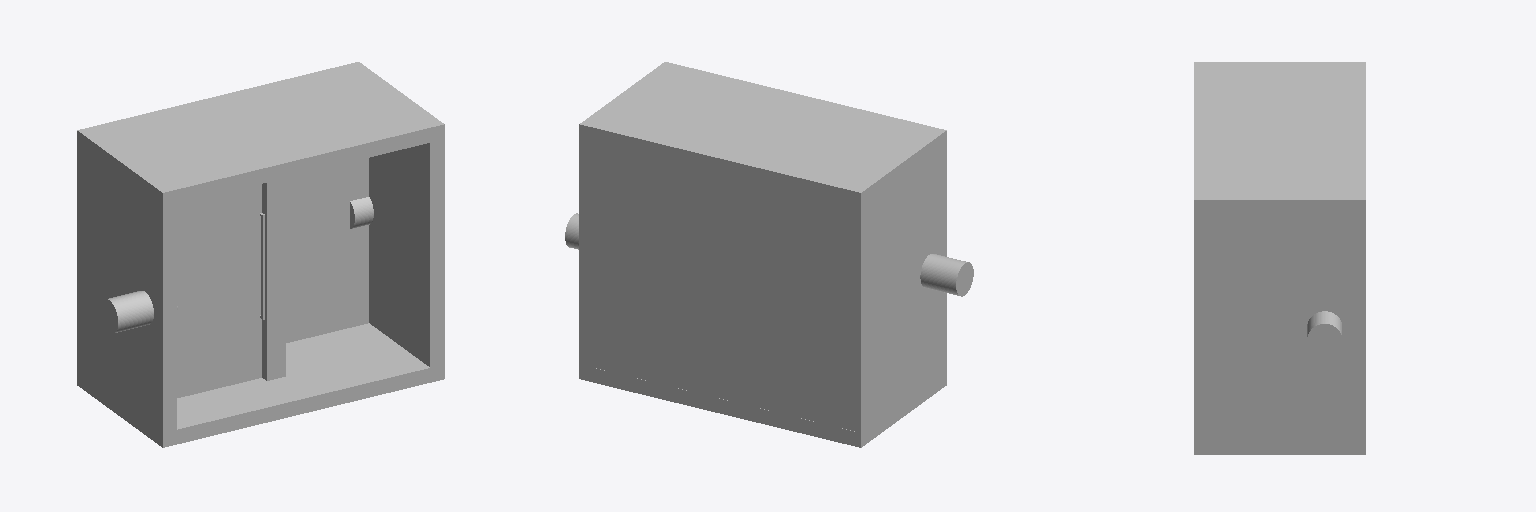
File: Rototamiz de discos - Vista 3D - {3D}.obj
3 renders of one model, left to right at view 1: azimuth 30°, elevation 25°; view 2: azimuth 150°, elevation 25°; view 3: azimuth 270°, elevation 25°, orthographic.
Parts seen in each view (by area): view 1: Muros__Muro básico__Mur Formigó In Situ 30 cm__[number redacted], Muros__Muro básico__Mur Formigó In Situ 30 cm__[number redacted], Modelos genéricos__Aigua__Aigua__[number redacted], Muros__Muro básico__Mur Formigó In Situ 30 cm__[number redacted], Muros__Muro básico__Mur Formigó In Situ 30 cm__[number redacted], Modelos genéricos__Aigua1__Aigua__[number redacted], Muros__Muro básico__Mur Formigó In Situ 40 cm__[number redacted], Tuberías__Tipos de tubería__ENG_Canonades_Pead__[number redacted], Tuberías__Tipos de tubería__ENG_Canonades_Pead__[number redacted], Modelos genéricos__Tamiz de discos__Tamiz de discos__[number redacted]; view 2: Suelos__Suelo__Llosa de Formigó in situ 30 cm__[number redacted], Muros__Muro básico__Mur Formigó In Situ 30 cm__[number redacted], Muros__Muro básico__Mur Formigó In Situ 30 cm__[number redacted], Muros__Muro básico__Mur Formigó In Situ 30 cm__[number redacted], Muros__Muro básico__Mur Formigó In Situ 30 cm__[number redacted], Tuberías__Tipos de tubería__ENG_Canonades_Pead__[number redacted]; view 3: Muros__Muro básico__Mur Formigó In Situ 30 cm__[number redacted], Muros__Muro básico__Mur Formigó In Situ 30 cm__[number redacted], Tuberías__Tipos de tubería__ENG_Canonades_Pead__[number redacted].
Part boxes in pixels (x1,y1,x2,y2): Muros__Muro básico__Mur Formigó In Situ 30 cm__[number redacted]: (77, 62, 444, 207); Muros__Muro básico__Mur Formigó In Situ 30 cm__[number redacted]: (77, 145, 176, 432); Modelos genéricos__Aigua__Aigua__[number redacted]: (177, 184, 261, 397); Muros__Muro básico__Mur Formigó In Situ 30 cm__[number redacted]: (369, 139, 444, 382); Muros__Muro básico__Mur Formigó In Situ 30 cm__[number redacted]: (77, 323, 429, 447); Modelos genéricos__Aigua1__Aigua__[number redacted]: (286, 158, 368, 342); Muros__Muro básico__Mur Formigó In Situ 40 cm__[number redacted]: (262, 178, 285, 380); Tuberías__Tipos de tubería__ENG_Canonades_Pead__[number redacted]: (101, 291, 177, 333); Tuberías__Tipos de tubería__ENG_Canonades_Pead__[number redacted]: (350, 197, 373, 228); Modelos genéricos__Tamiz de discos__Tamiz de discos__[number redacted]: (260, 210, 286, 319); Suelos__Suelo__Llosa de Formigó in situ 30 cm__[number redacted]: (594, 143, 846, 428); Muros__Muro básico__Mur Formigó In Situ 30 cm__[number redacted]: (579, 62, 946, 207); Muros__Muro básico__Mur Formigó In Situ 30 cm__[number redacted]: (847, 145, 946, 432); Muros__Muro básico__Mur Formigó In Situ 30 cm__[number redacted]: (594, 368, 946, 447); Muros__Muro básico__Mur Formigó In Situ 30 cm__[number redacted]: (579, 139, 593, 382); Tuberías__Tipos de tubería__ENG_Canonades_Pead__[number redacted]: (920, 254, 973, 296); Muros__Muro básico__Mur Formigó In Situ 30 cm__[number redacted]: (1194, 215, 1365, 454); Muros__Muro básico__Mur Formigó In Situ 30 cm__[number redacted]: (1194, 62, 1365, 214); Tuberías__Tipos de tubería__ENG_Canonades_Pead__[number redacted]: (1307, 311, 1341, 355).
Bounding box in the file's own units: 7.22 × 5.13 × 3.12.